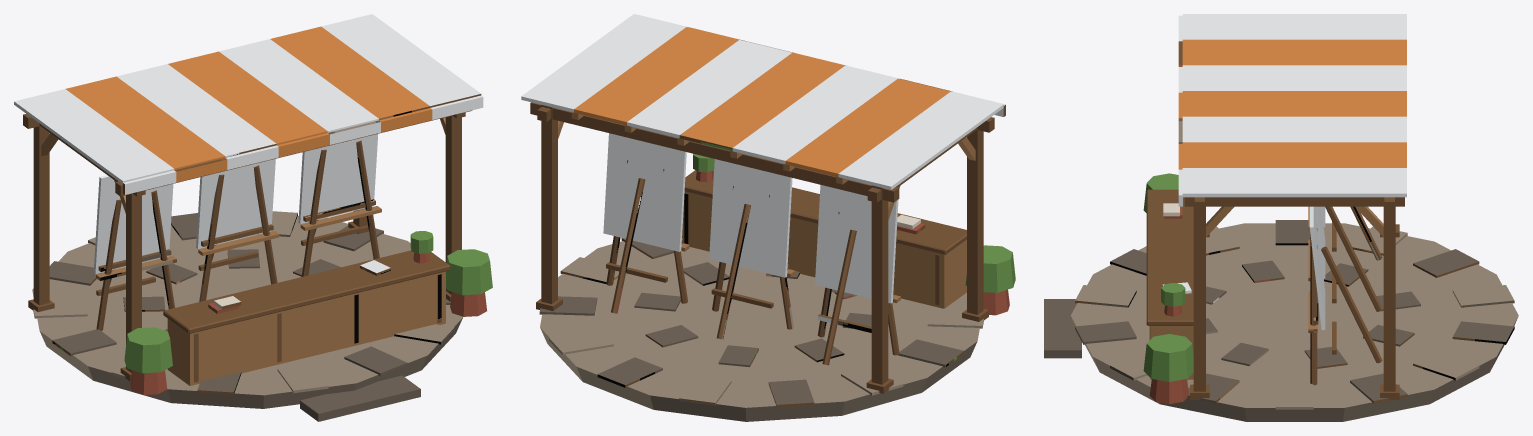
Rendered from AST08.glb.
3 renders of one model, left to right at view 1: azimuth 30°, elevation 25°; view 2: azimuth 150°, elevation 25°; view 3: azimuth 270°, elevation 25°, orthographic. The views are drawn at different scales.
Visible parts, largest first — view 1: AST08_Stand, AST08_Easel_3, AST08_Easel_2, AST08_Easel_1; view 2: AST08_Stand, AST08_Easel_2, AST08_Easel_3, AST08_Easel_1; view 3: AST08_Stand, AST08_Easel_3.
Boxes of the visible parts, bbox=[...] form: AST08_Stand: bbox=[14, 14, 492, 421]; AST08_Easel_3: bbox=[298, 134, 378, 224]; AST08_Easel_2: bbox=[196, 159, 275, 248]; AST08_Easel_1: bbox=[93, 175, 173, 274]; AST08_Stand: bbox=[521, 14, 1015, 421]; AST08_Easel_2: bbox=[709, 159, 792, 277]; AST08_Easel_3: bbox=[603, 133, 686, 251]; AST08_Easel_1: bbox=[815, 185, 898, 303]; AST08_Stand: bbox=[1044, 14, 1518, 421]; AST08_Easel_3: bbox=[1309, 206, 1325, 329].
Size of the model in its own units: 5.82 by 3.33 by 6.25.
Materials: 2 (1 with a texture image).
